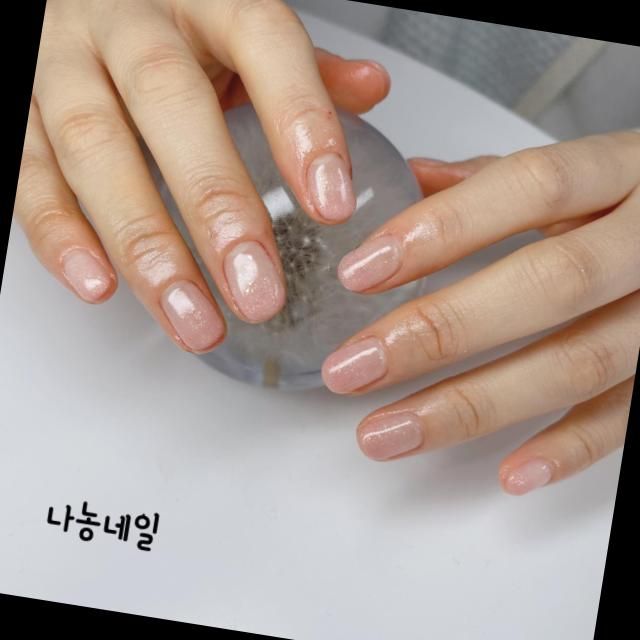Nail: (223, 241, 286, 322), (162, 280, 225, 351), (321, 337, 388, 395), (338, 236, 404, 292), (307, 153, 356, 222), (356, 413, 423, 460), (63, 250, 111, 301), (506, 460, 552, 494)
